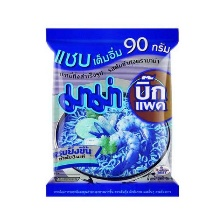snack: (36, 19, 186, 204)
